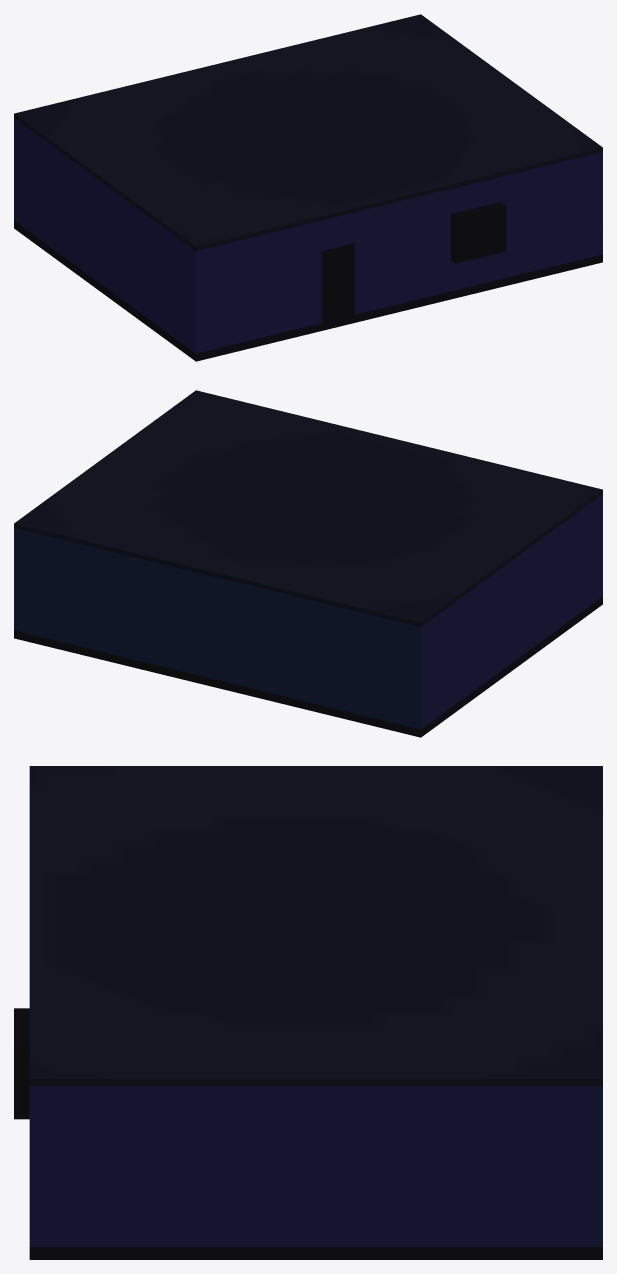
File: oyun-odasi.900d8ccf36d7.glb
The picture shows the model from 3 angles, top to bottom: view 1: azimuth 30°, elevation 25°; view 2: azimuth 150°, elevation 25°; view 3: azimuth 270°, elevation 25°; orthographic projection. The views are drawn at different scales.
Parts seen in each view (by area): view 1: ceiling, wall_S, wall_W, floor; view 2: ceiling, wall_N, wall_W, floor; view 3: ceiling, wall_E, floor, wall_S, wall_N.
Part boxes in pixels (<box>): ceiling: <box>14,14,602,251</box>; wall_S: <box>193,152,602,353</box>; wall_W: <box>16,120,193,351</box>; floor: <box>14,220,602,361</box>; ceiling: <box>14,390,602,627</box>; wall_N: <box>14,528,423,729</box>; wall_W: <box>423,496,600,727</box>; floor: <box>14,596,602,737</box>; ceiling: <box>29,766,602,1085</box>; wall_E: <box>38,1086,593,1246</box>; floor: <box>29,1247,602,1259</box>; wall_S: <box>14,1008,38,1246</box>; wall_N: <box>594,1086,602,1246</box>.
Bounding box in the file's own units: 13.32 × 3.59 × 10.6.
